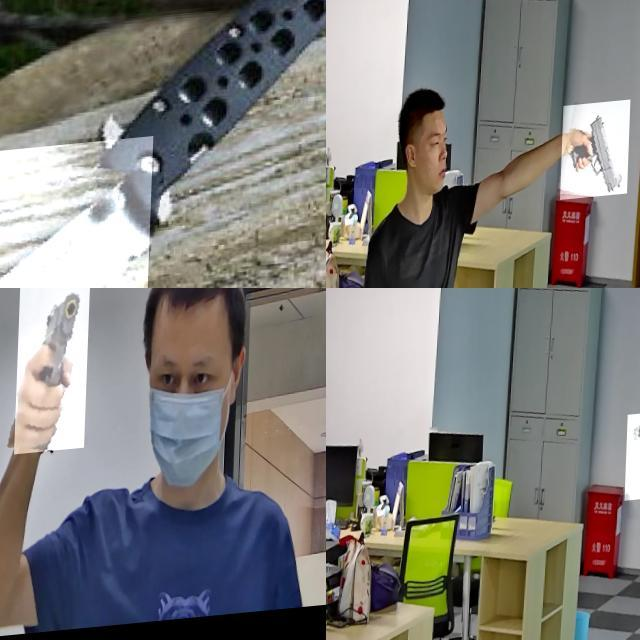-: (0, 142, 167, 288)
gun-knife-thesis - v11 Yolov5 augmented: (17, 288, 92, 459), (562, 108, 632, 206), (626, 417, 640, 507)
